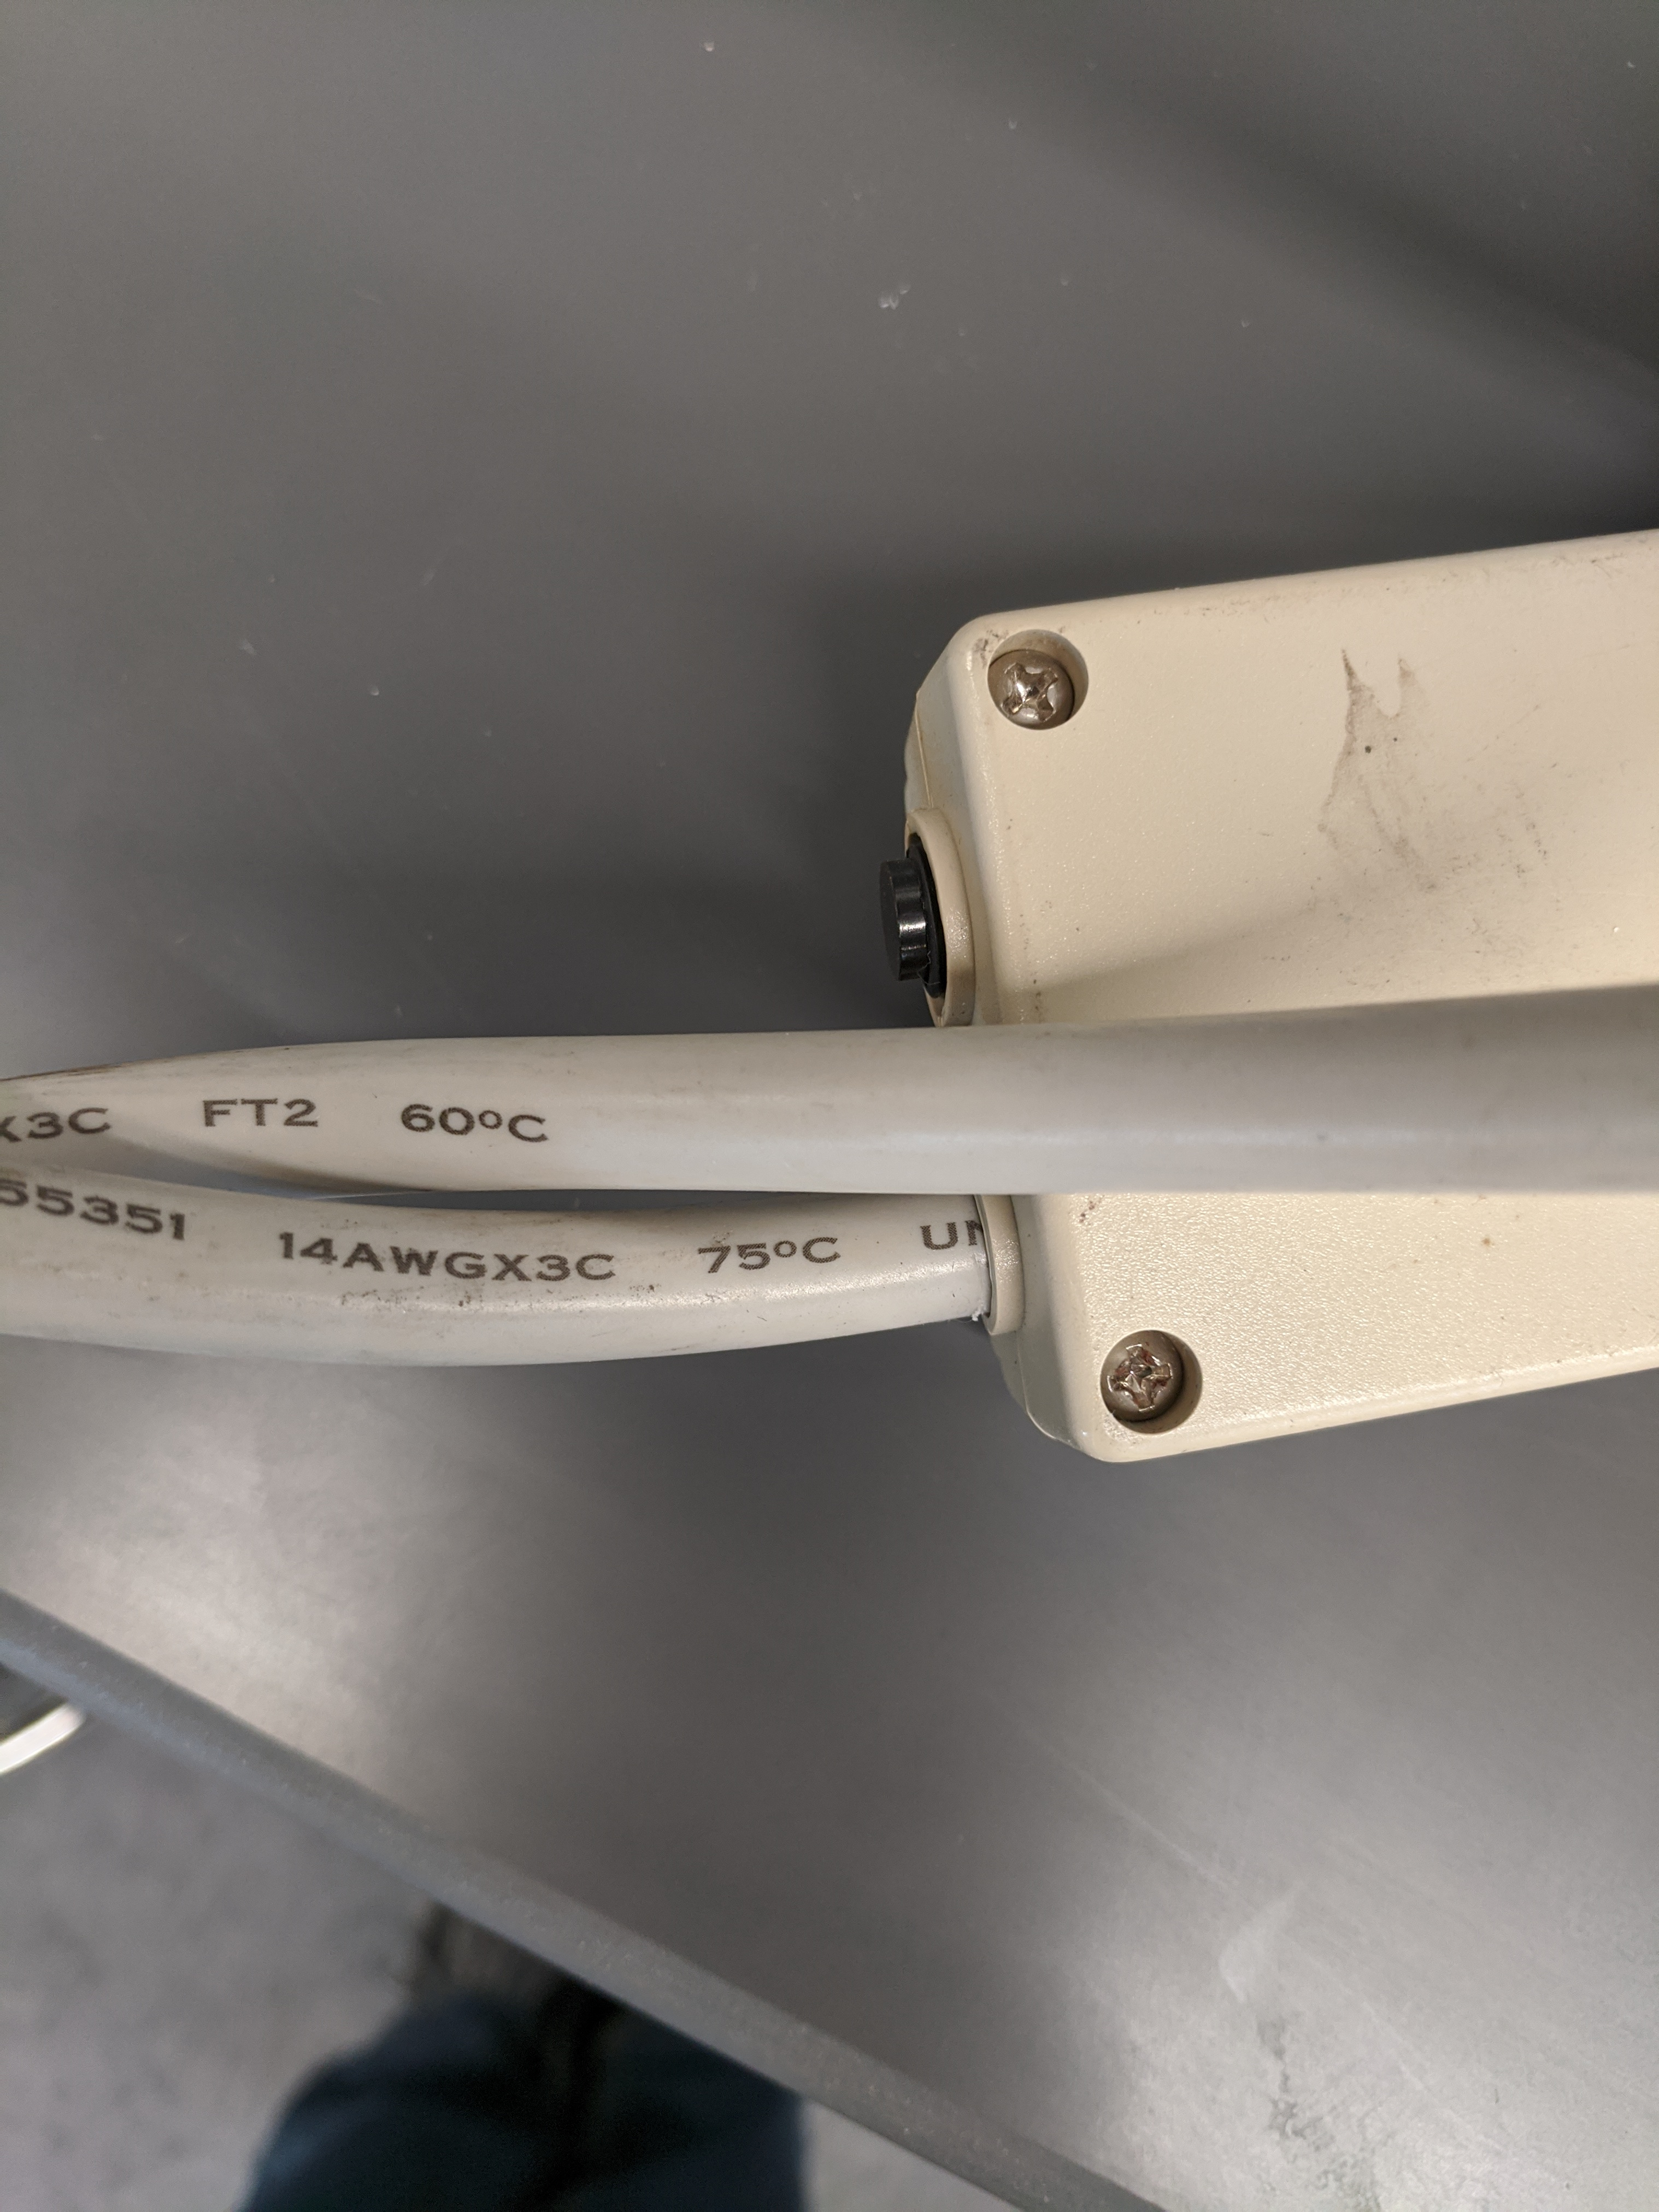cross_recessed_screw: (965, 618, 1086, 728), (1094, 1322, 1202, 1428)
